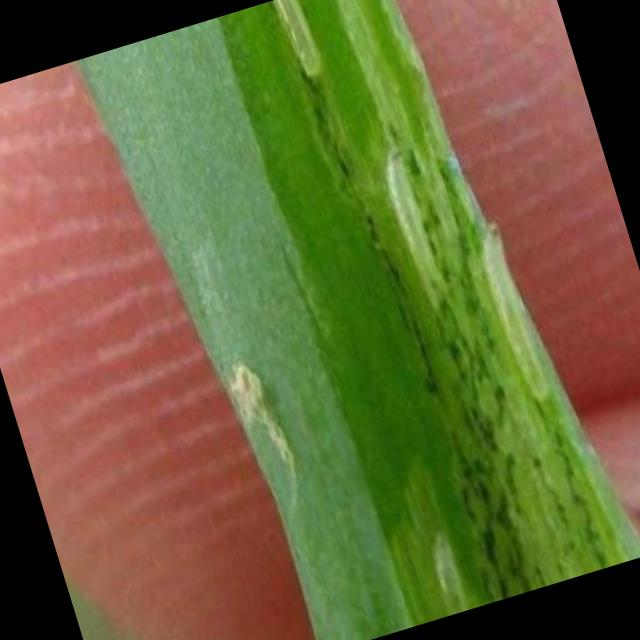whorl-maggot: (469, 212, 560, 417), (370, 137, 458, 320), (269, 0, 330, 90), (420, 525, 475, 616)
